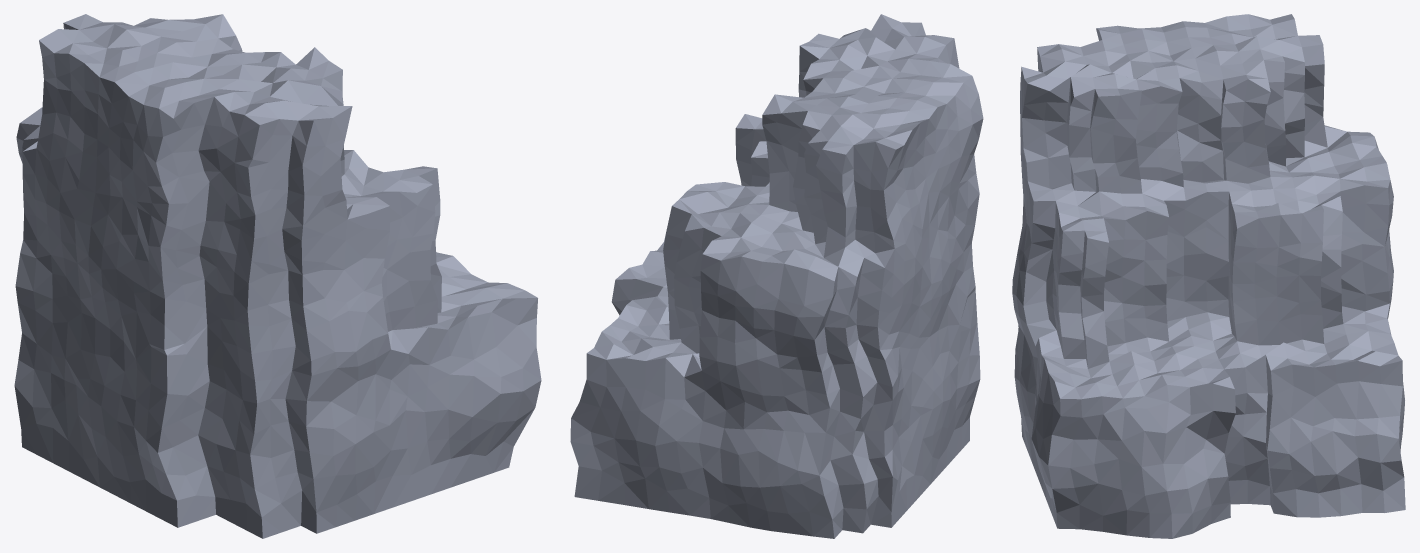
The model's file is ENV_Mountain.fbx.
The picture shows the model from 3 angles, left to right: view 1: azimuth 30°, elevation 25°; view 2: azimuth 150°, elevation 25°; view 3: azimuth 270°, elevation 25°; orthographic projection. The views are drawn at different scales.
Visible parts, largest first — view 1: Plane; view 2: Plane; view 3: Plane.
Boxes of the visible parts, left/top/right/bottom form: Plane: left=14, top=14, right=541, bottom=538; Plane: left=570, top=14, right=983, bottom=538; Plane: left=1012, top=14, right=1405, bottom=538.
Size of the model in its own units: 558 by 553 by 589.
